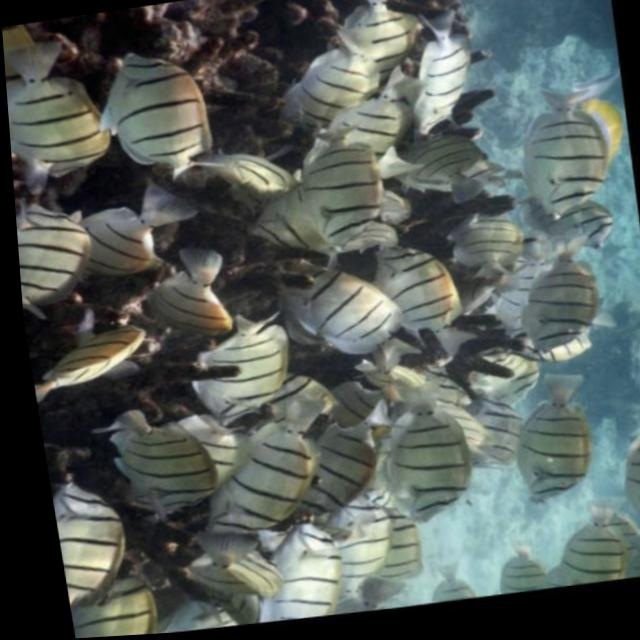Dead Coral: (114, 0, 341, 68), (464, 0, 503, 4)
